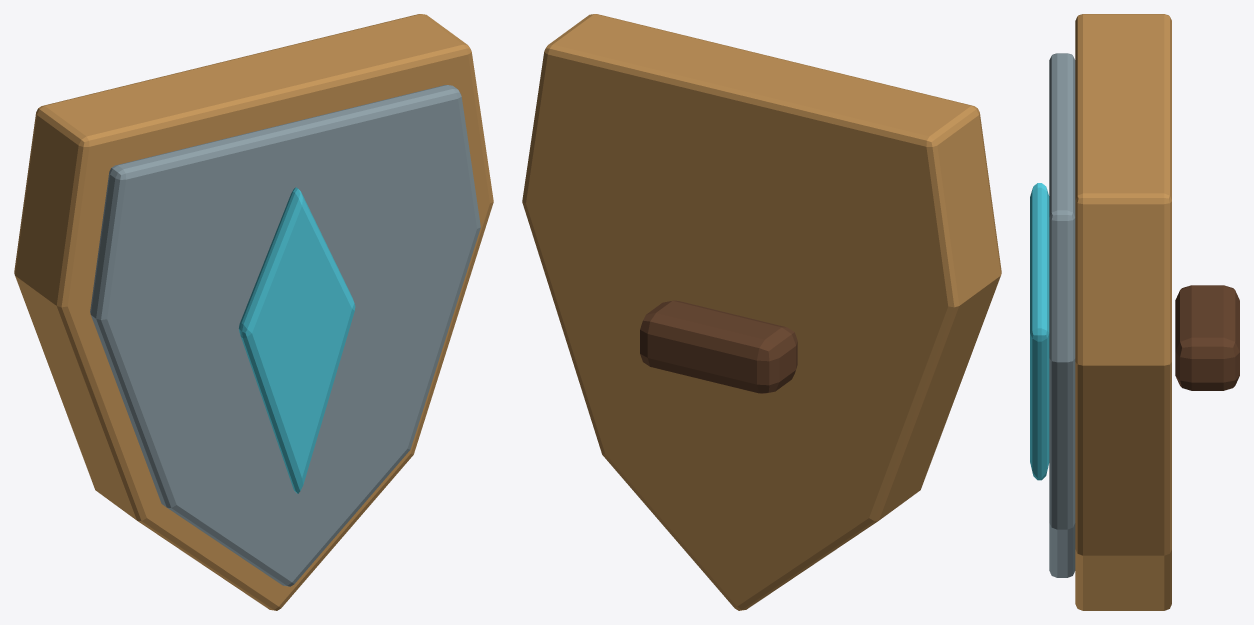
Rendered from Shield.fbx.
3 views of the same model, side by side, from view 1: azimuth 30°, elevation 25°; view 2: azimuth 150°, elevation 25°; view 3: azimuth 270°, elevation 25° (orthographic). The views are drawn at different scales.
Parts seen in each view (by area): view 1: Arsenal_Shield; view 2: Arsenal_Shield; view 3: Arsenal_Shield.
Part boxes in pixels (left/top/right/bottom): Arsenal_Shield: left=14, top=14, right=493, bottom=610; Arsenal_Shield: left=522, top=14, right=1001, bottom=610; Arsenal_Shield: left=1030, top=14, right=1239, bottom=610.
Size of the model in its own units: 76 by 86.54 by 32.5.
